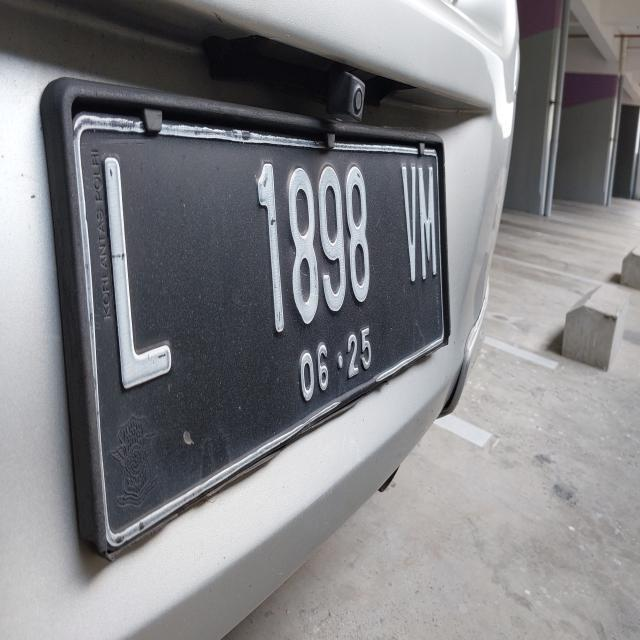1: (241, 158, 286, 350)
8: (285, 158, 320, 340), (346, 157, 372, 310)
9: (318, 157, 347, 327)
L: (92, 150, 184, 398)
M: (419, 160, 437, 291)
V: (398, 160, 418, 300)
